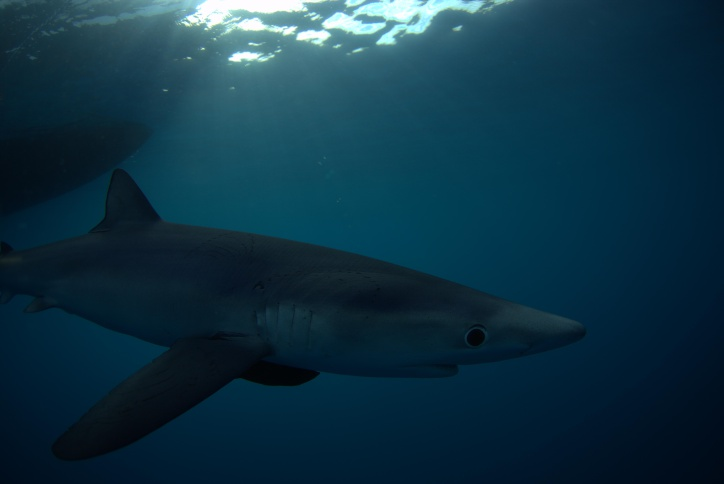Azul: (1, 162, 638, 474)
